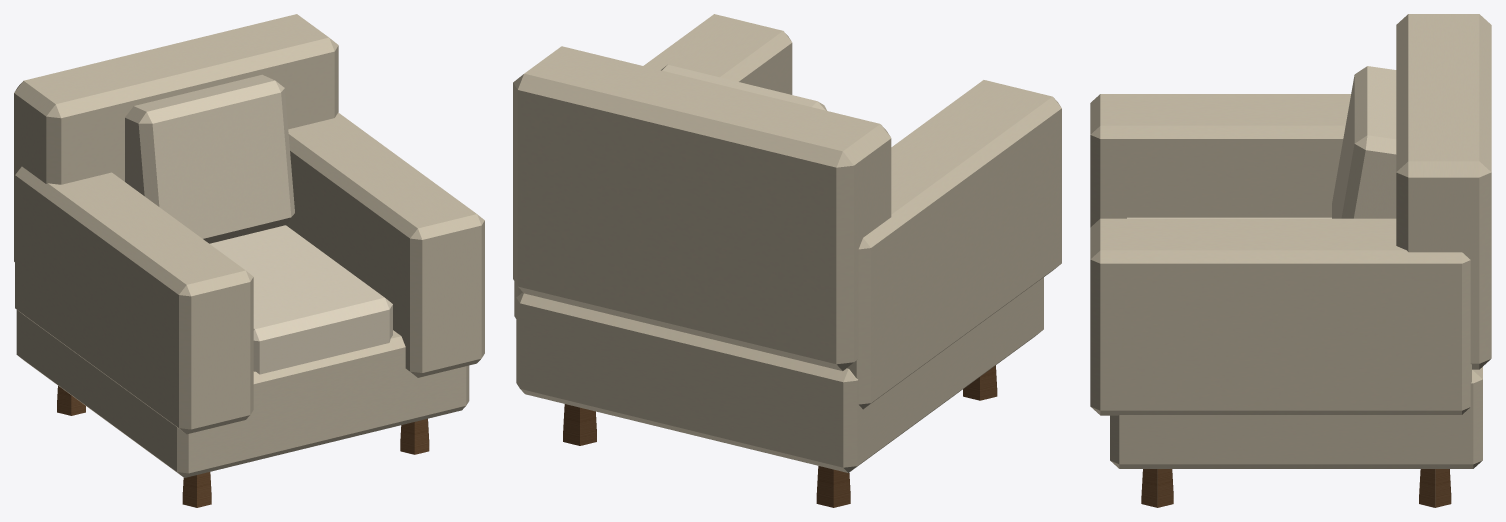
File: armchair.glb
3 views of the same model, side by side, from view 1: azimuth 30°, elevation 25°; view 2: azimuth 150°, elevation 25°; view 3: azimuth 270°, elevation 25° (orthographic). The views are drawn at different scales.
Visible parts, largest first — view 1: home_armchair; view 2: home_armchair; view 3: home_armchair.
Part boxes in pixels (x1,y1,x2,y2): home_armchair: (14, 14, 484, 507); home_armchair: (513, 14, 1061, 507); home_armchair: (1090, 14, 1491, 507).
Size of the model in its own units: 0.9 by 0.9 by 0.925.
Materials: 1 (1 with a texture image).
